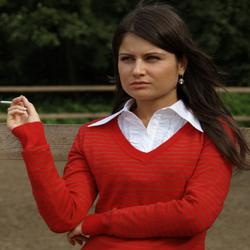cigarro: (1, 94, 20, 113)
fumador: (1, 7, 216, 250)
